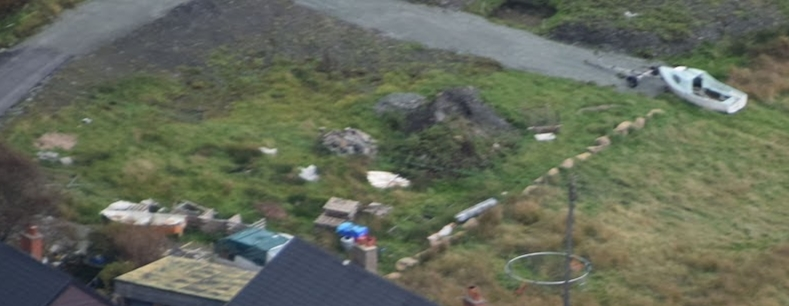boat_cabin: (656, 61, 756, 119)
together_barrel: (292, 161, 412, 252)
